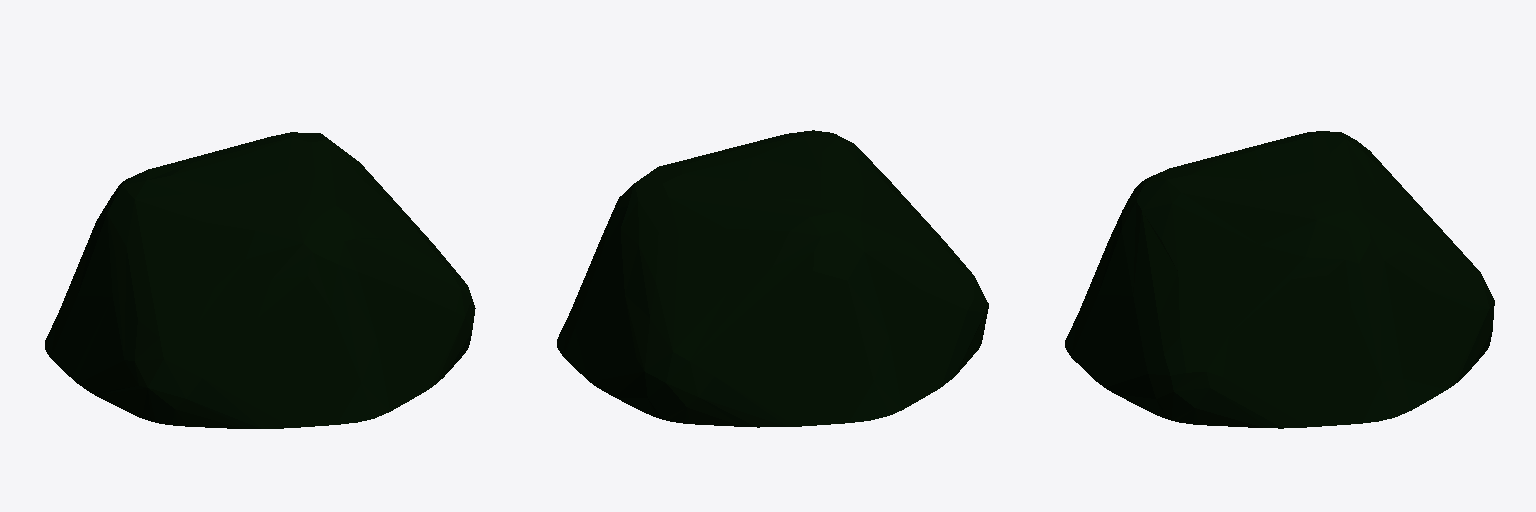
3 views of the same model, side by side, from view 1: azimuth 30°, elevation 25°; view 2: azimuth 150°, elevation 25°; view 3: azimuth 270°, elevation 25° (orthographic).
Parts seen in each view (by area): view 1: Platonic_2.001; view 2: Platonic_2.001; view 3: Platonic_2.001.
Boxes of the visible parts, x1,y1,x2,y2 form: Platonic_2.001: [45, 132, 475, 428]; Platonic_2.001: [557, 130, 988, 427]; Platonic_2.001: [1065, 131, 1494, 428].
Size of the model in its own units: 1.71 by 0.8039 by 1.81.